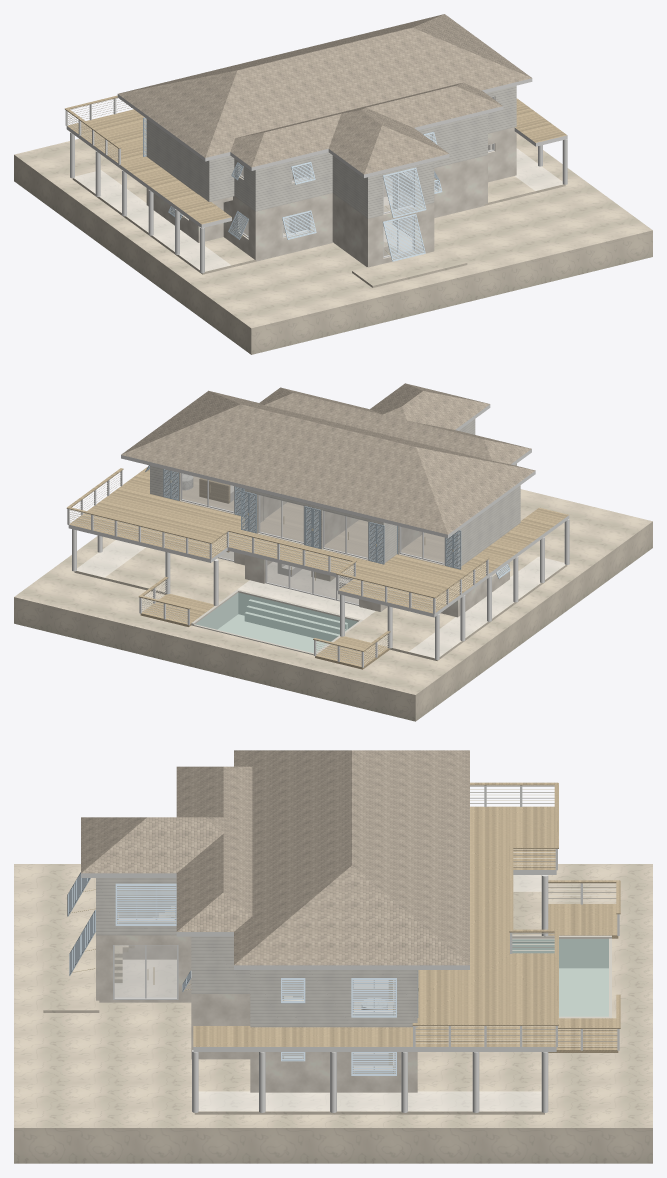
File: demo-villa.glb
The picture shows the model from 3 angles, top to bottom: view 1: azimuth 30°, elevation 25°; view 2: azimuth 150°, elevation 25°; view 3: azimuth 270°, elevation 25°; orthographic projection. The views are drawn at different scales.
Visible parts, largest first — view 1: Site_Plinth, Roof, GF_Walls, FF_Walls, Terrace_Deck, Slabs, Shutters, Zone_GF_Covered_Terrace_W, Columns, Glazing, Rails, Zone_GF_Covered_Terrace_E (+1 smaller); view 2: Roof, Site_Plinth, Slabs, Terrace_Deck, Rails, Glazing, FF_Walls, Pool, Water, Shutters, Zone_GF_Covered_Terrace_W, Columns (+9 smaller); view 3: Site_Plinth, Roof, Slabs, Terrace_Deck, FF_Walls, GF_Walls, Shutters, Rails, Zone_GF_Covered_Terrace_E, Pool, Glazing, Water (+4 smaller).
Part boxes in pixels (x1,y1,x2,y2): Site_Plinth: [14, 133, 652, 354]; Roof: [117, 14, 532, 177]; GF_Walls: [146, 127, 516, 267]; FF_Walls: [146, 85, 516, 218]; Terrace_Deck: [72, 148, 565, 287]; Slabs: [66, 98, 567, 266]; Shutters: [143, 117, 442, 261]; Zone_GF_Covered_Terrace_W: [74, 170, 230, 271]; Columns: [70, 132, 567, 273]; Glazing: [241, 97, 492, 256]; Rails: [65, 95, 131, 164]; Zone_GF_Covered_Terrace_E: [515, 148, 562, 190]; Roof: [121, 383, 535, 537]; Site_Plinth: [14, 489, 652, 721]; Slabs: [68, 467, 569, 617]; Terrace_Deck: [74, 540, 567, 669]; Rails: [66, 468, 489, 667]; Glazing: [182, 473, 444, 604]; FF_Walls: [150, 419, 520, 567]; Pool: [191, 589, 363, 655]; Water: [196, 593, 356, 652]; Shutters: [145, 465, 510, 578]; Zone_GF_Covered_Terrace_W: [409, 557, 564, 657]; Columns: [72, 519, 569, 659]; Site_Plinth: [14, 864, 652, 1163]; Roof: [81, 750, 469, 969]; Slabs: [99, 806, 556, 1067]; Terrace_Deck: [43, 875, 618, 1114]; FF_Walls: [96, 878, 417, 1026]; GF_Walls: [96, 895, 417, 1092]; Shutters: [67, 872, 418, 1075]; Rails: [412, 782, 620, 1050]; Zone_GF_Covered_Terrace_E: [199, 1091, 541, 1110]; Pool: [512, 935, 611, 1018]; Glazing: [115, 886, 393, 1069]; Water: [512, 939, 608, 1016].
Bounding box in the file's own units: 25.91 × 10.2 × 26.52.
20 materials, 8 textured.
